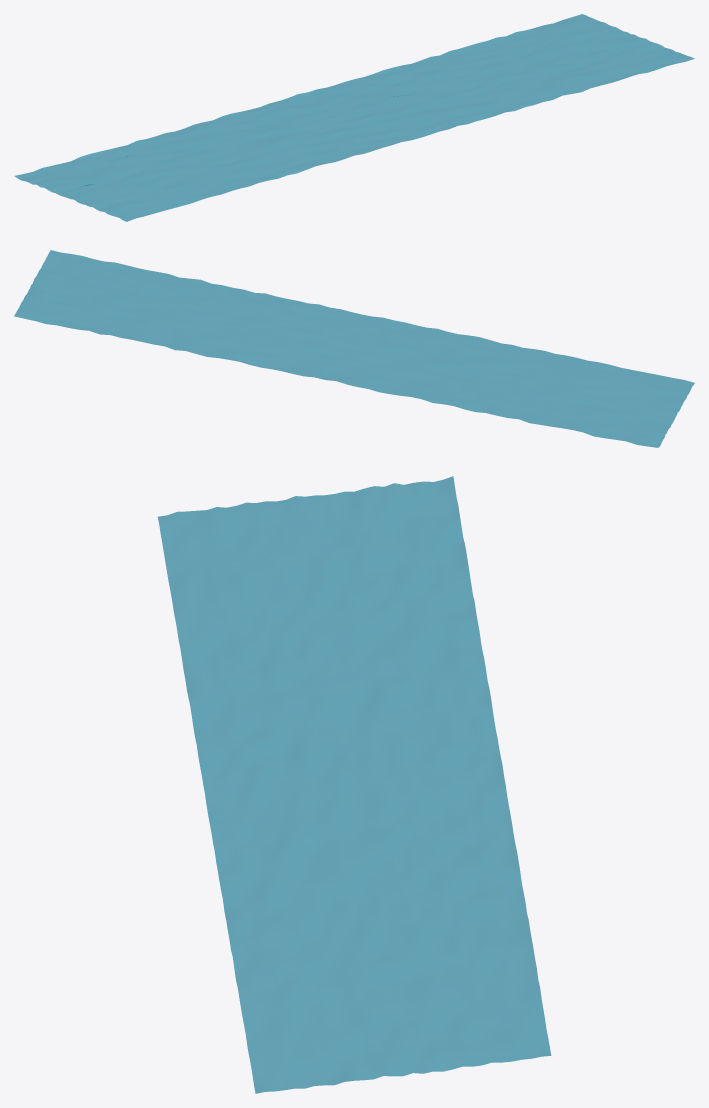
Rendered from dalgazem.glb.
3 renders of one model, top to bottom at view 1: azimuth 30°, elevation 25°; view 2: azimuth 150°, elevation 25°; view 3: azimuth 270°, elevation 25°, orthographic. The views are drawn at different scales.
Parts seen in each view (by area): view 1: PlaneShape_0; view 2: PlaneShape_0; view 3: PlaneShape_0.
Boxes of the visible parts, x1,y1,x2,y2 form: PlaneShape_0: (14,14,694,221); PlaneShape_0: (14,250,694,447); PlaneShape_0: (157,476,551,1093).
Size of the model in its own units: 1687 by 7.23 by 455.
